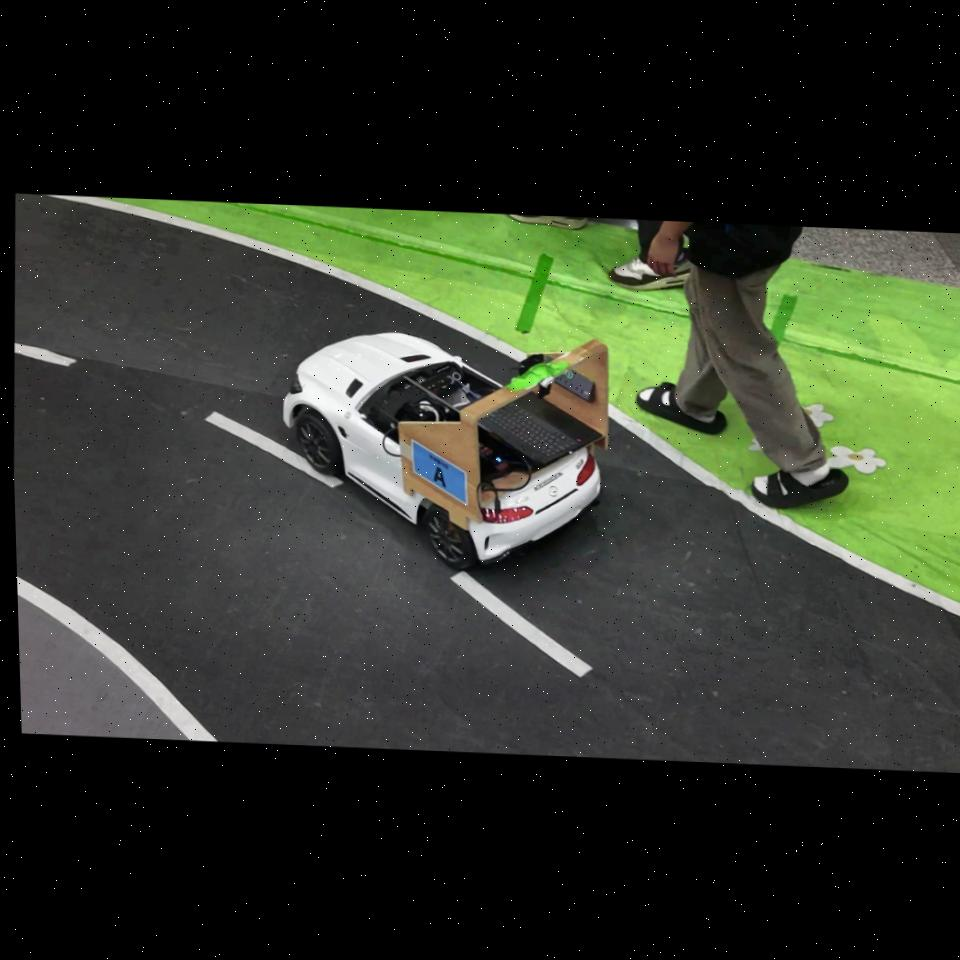broken_line: (449, 571, 593, 678), (204, 411, 344, 488), (15, 343, 77, 367)
